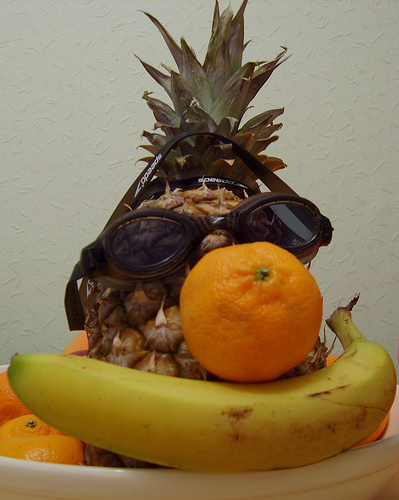pineapple: (85, 1, 328, 387)
